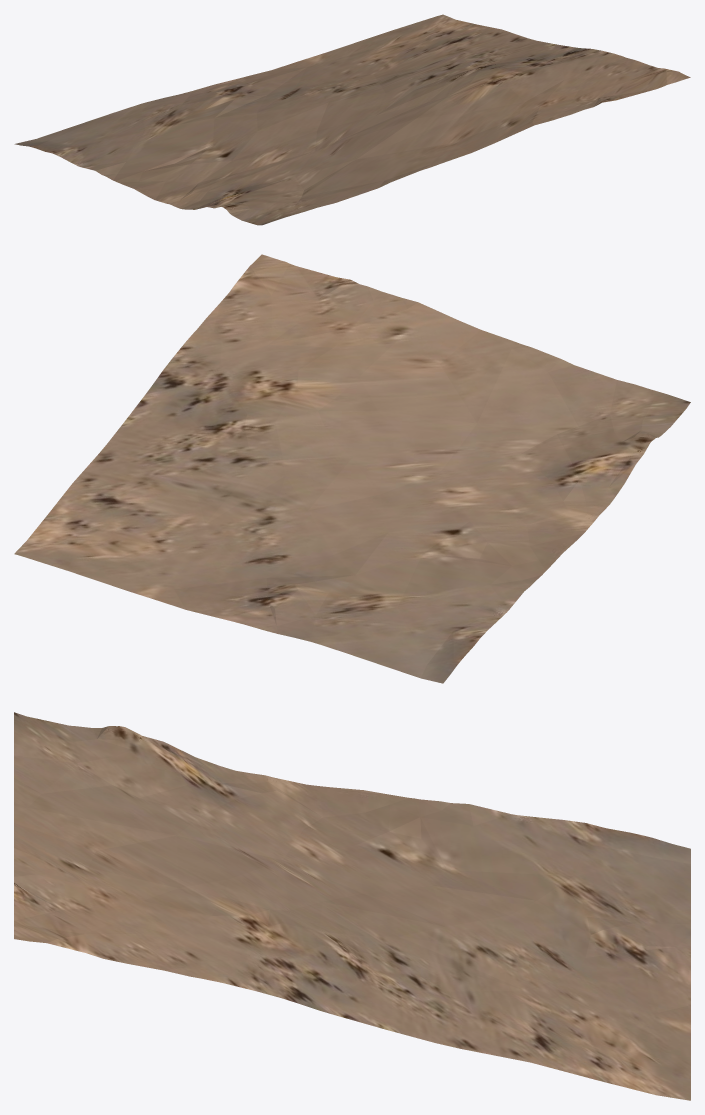
3 views of the same model, one above another, from view 1: azimuth 30°, elevation 25°; view 2: azimuth 150°, elevation 25°; view 3: azimuth 270°, elevation 25° (orthographic). The views are drawn at different scales.
Size of the model in its own units: 2.09 by 0.6675 by 2.09.
Materials: 2 (2 with a texture image).
